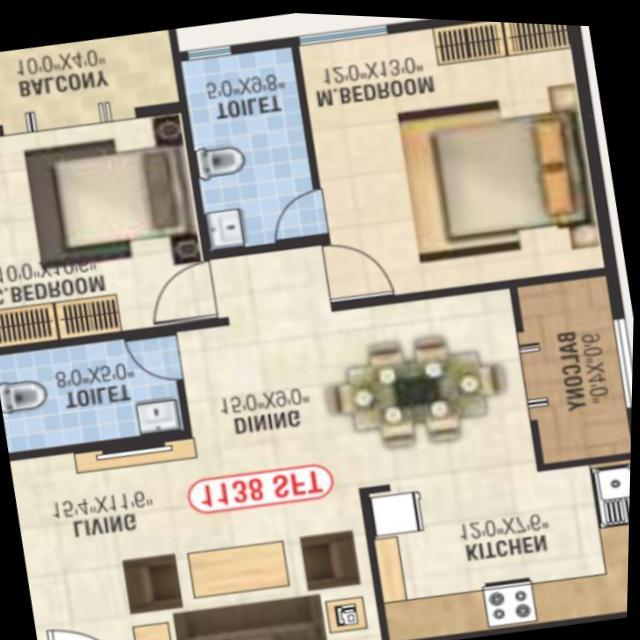Balcony-Sitout: (510, 260, 634, 467), (0, 27, 186, 129)
Bedroom: (0, 98, 226, 355)
Bedroom with Toilet: (172, 15, 616, 305)
Dining: (315, 314, 520, 460)
Kitchen: (365, 453, 632, 640)
Living: (11, 411, 391, 640)
Toilet: (172, 34, 330, 260), (0, 325, 198, 462)
